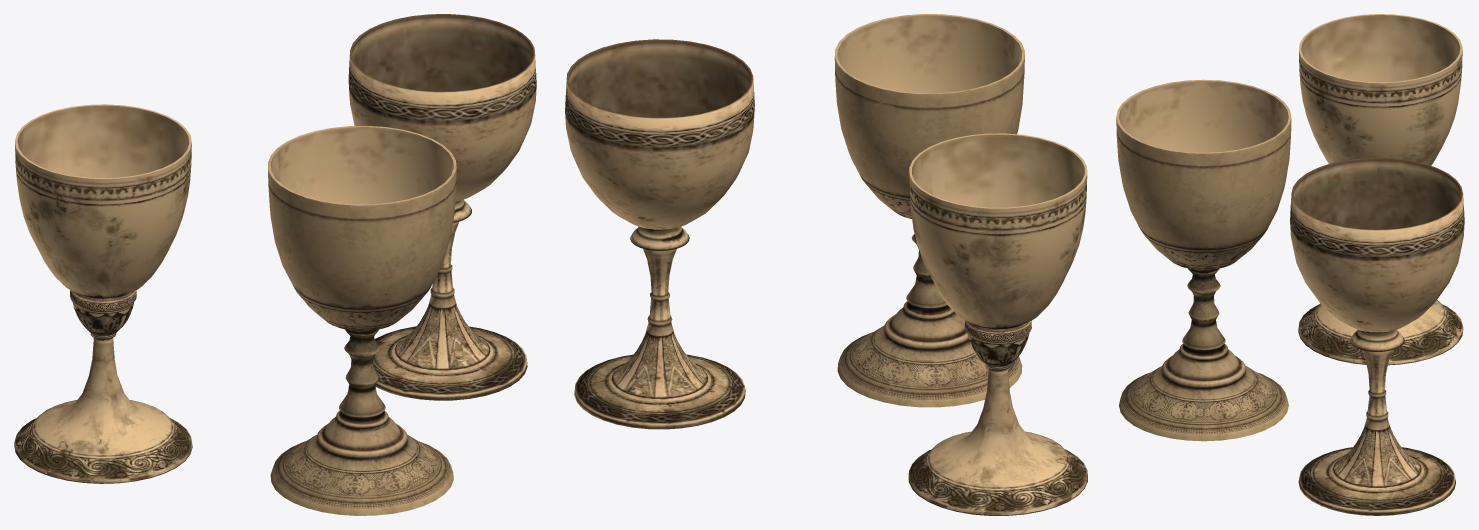
Rendered from brass_goblets.2c66d203.glb.
3 renders of one model, left to right at view 1: azimuth 30°, elevation 25°; view 2: azimuth 150°, elevation 25°; view 3: azimuth 270°, elevation 25°, orthographic. The views are drawn at different scales.
Parts seen in each view (by area): view 1: brass_goblet_01, brass_goblet_02, brass_goblet_03; view 2: brass_goblet_02, brass_goblet_03, brass_goblet_01; view 3: brass_goblet_01, brass_goblet_03, brass_goblet_02.
Part boxes in pixels (bbox=[...]): brass_goblet_01: bbox=[268, 126, 456, 515]; brass_goblet_02: bbox=[14, 104, 192, 483]; brass_goblet_03: bbox=[348, 14, 536, 400]; brass_goblet_02: bbox=[908, 133, 1087, 515]; brass_goblet_03: bbox=[565, 39, 754, 429]; brass_goblet_01: bbox=[834, 14, 1024, 407]; brass_goblet_01: bbox=[1116, 79, 1291, 441]; brass_goblet_03: bbox=[1290, 157, 1464, 515]; brass_goblet_02: bbox=[1298, 14, 1463, 365].
Bounding box in the file's own units: 0.95 × 0.5728 × 0.6236.
3 materials, 3 textured.
